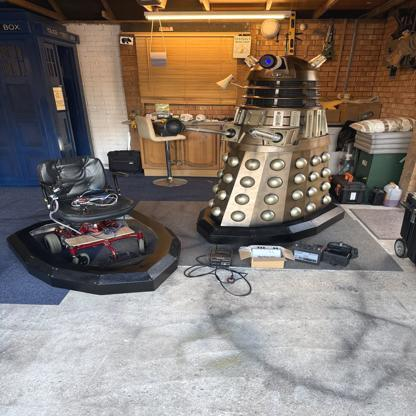dalek: (161, 35, 378, 266)
